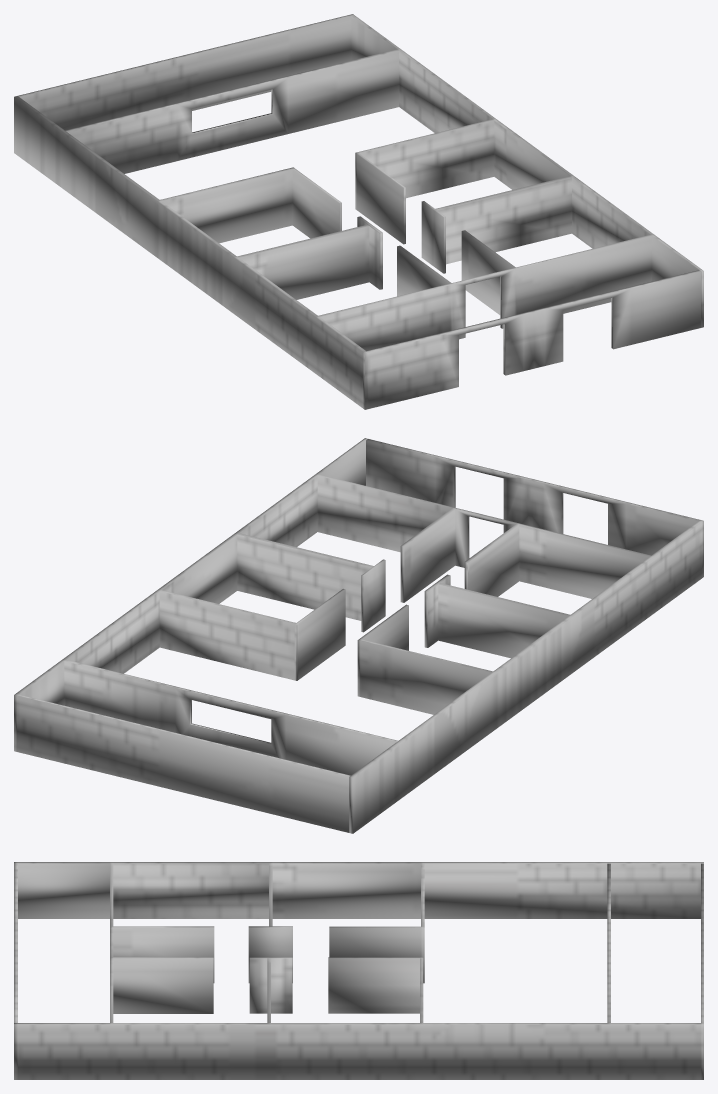
Rendered from SchoolWalls.fbx.
The picture shows the model from 3 angles, top to bottom: view 1: azimuth 30°, elevation 25°; view 2: azimuth 150°, elevation 25°; view 3: azimuth 270°, elevation 25°; orthographic projection.
Parts seen in each view (by area): view 1: RoomScene; view 2: RoomScene; view 3: RoomScene.
Part boxes in pixels (<box>): RoomScene: <box>14,14,703,409</box>; RoomScene: <box>14,438,703,833</box>; RoomScene: <box>14,862,703,1079</box>.
Bounding box in the file's own units: 1261 × 200 × 2261.
